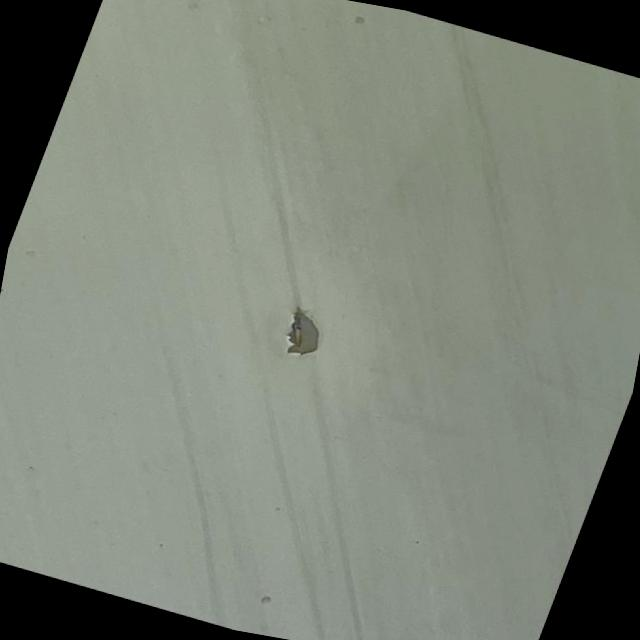crack: (250, 291, 338, 367)
